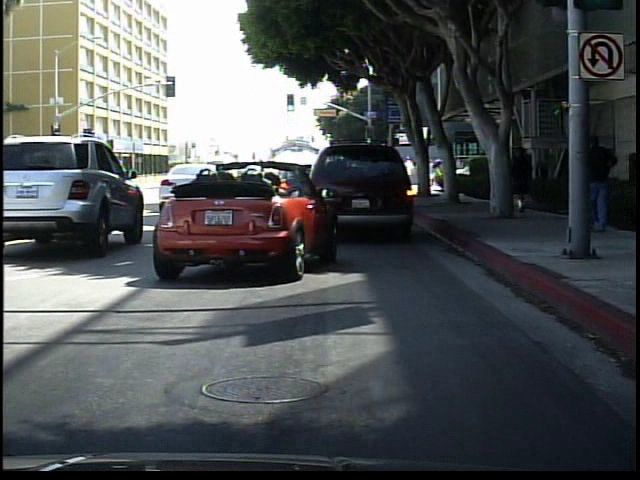person: (575, 132, 623, 239), (510, 141, 538, 213)
